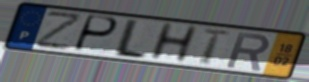H: (146, 21, 202, 63)
L: (109, 18, 150, 61)
P: (70, 13, 121, 54)
R: (224, 30, 272, 72)
T: (198, 27, 232, 67)
Z: (34, 11, 86, 52)
